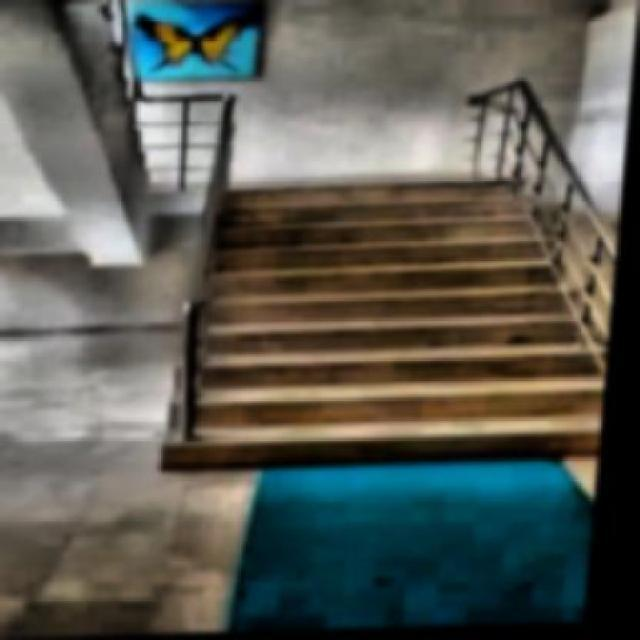stair: (170, 170, 624, 468)
